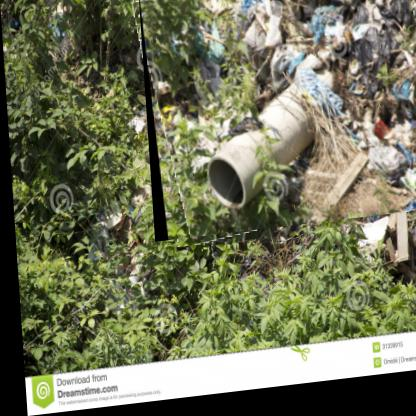Garbage: (139, 1, 416, 248)
